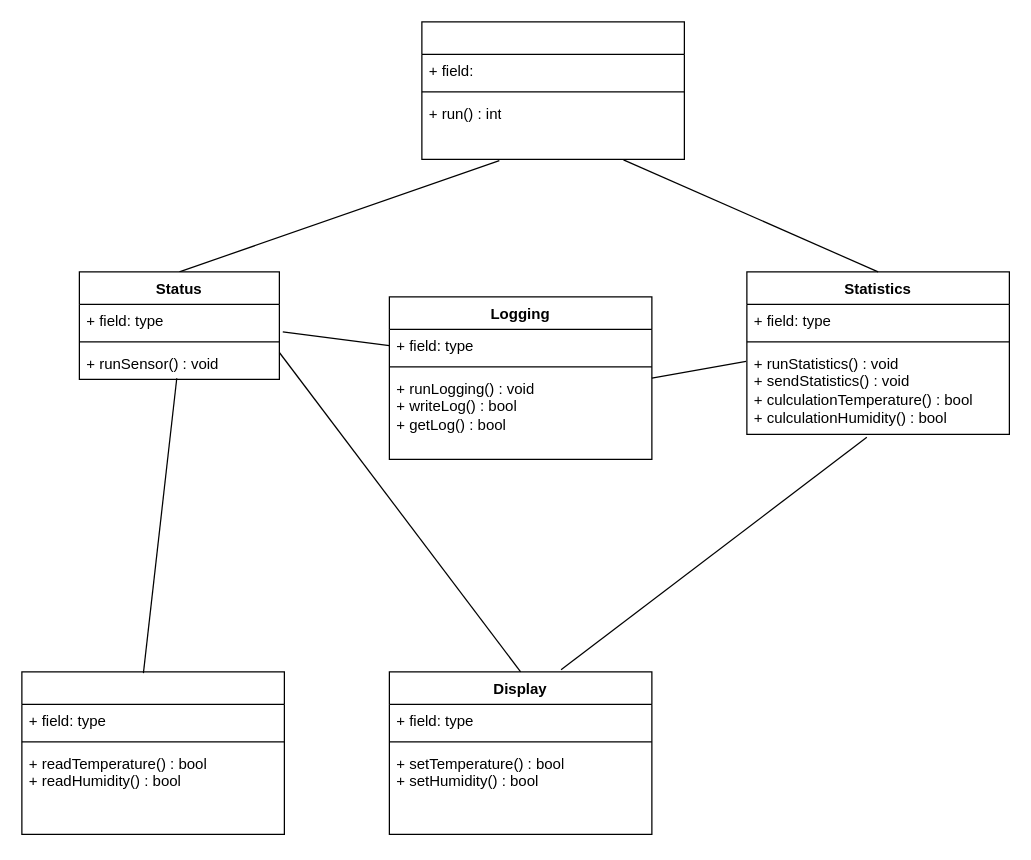
Image size: 1031x860. Some labels were removed from this diagram. Here are the shapes that lost their labels. From the top down, the box of each, then its label:
(421, 21, 684, 159): Control
(21, 671, 284, 834): Sensing
